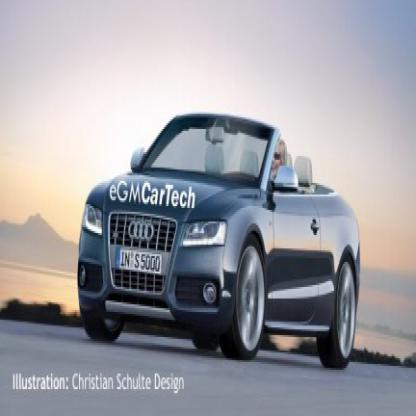Vehicle: (77, 110, 362, 376)
